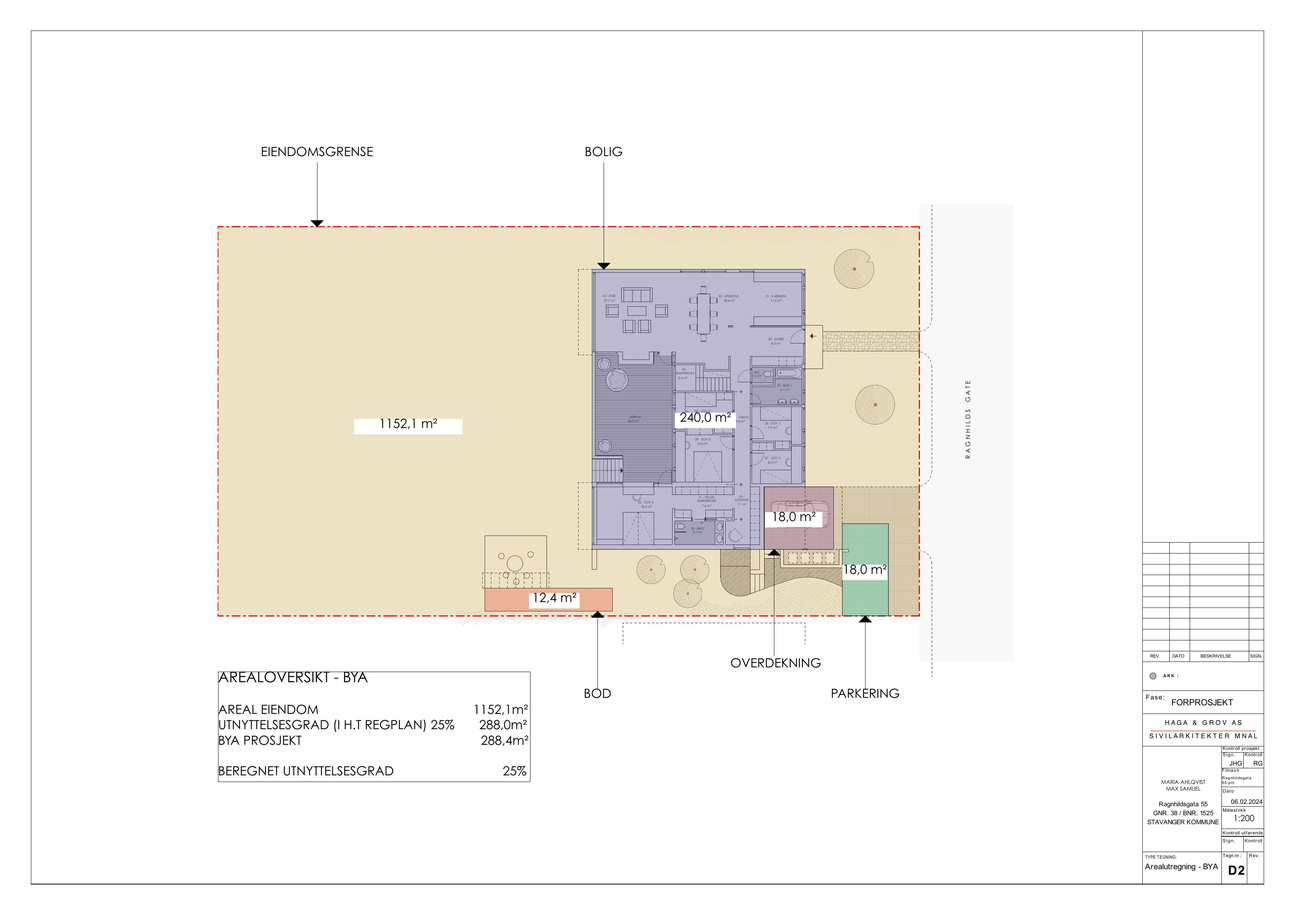plantegning: (218, 226, 916, 616)
